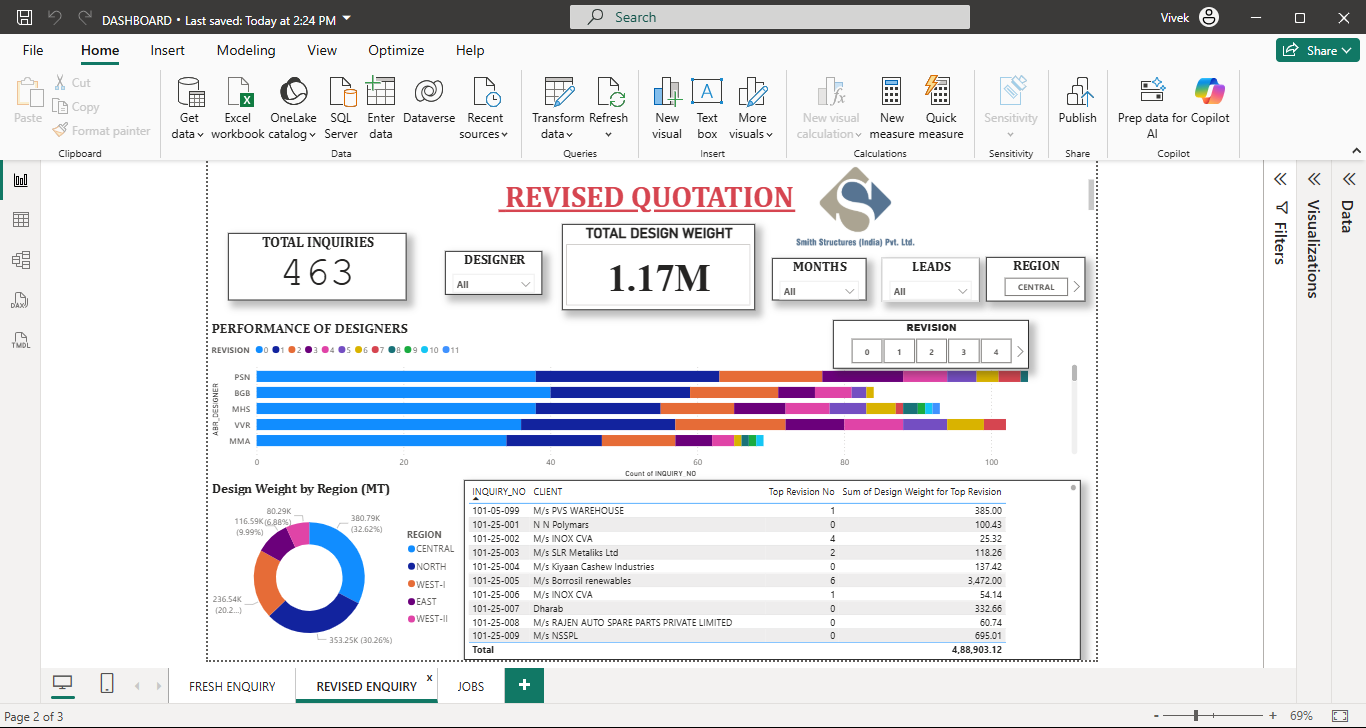

Layout of this report page (visuals, bound fields, positions):
{"tool":"powerbi","page":{"name":"REVISED ENQUIRY","canvas":[1280,720],"ordinal":1},"visuals":[{"type":"barChart","title":"PERFORMANCE OF DESIGNERS","fields":{"Category":["Enquiry Master REV- 2025-2026.ABR_DESIGNER"],"Y":["Count(Enquiry Master REV- 2025-2026.INQUIRY_NO)"],"Series":["Enquiry Master REV- 2025-2026.REVISION"]},"box":[0,229.9,1256.7,231.3],"z":0},{"type":"donutChart","title":"Design Weight by Region (MT)","fields":{"Category":["Enquiry Master REV- 2025-2026.REGION"],"Y":["Sum(Enquiry Master REV- 2025-2026.DESIGN_WEIGHT_MT)"]},"box":[0,460.8,368.6,259.2],"z":1000},{"type":"slicer","title":"MONTHS","fields":{"Values":["Enquiry Master REV- 2025-2026.RECEIVED MONTH"]},"box":[812.9,141.4,135.7,61.4],"z":2000},{"type":"slicer","title":"DESIGNER","fields":{"Values":["Enquiry Master REV- 2025-2026.ABR_DESIGNER"]},"box":[341.7,131.7,140,63.3],"z":3000},{"type":"cardVisual","title":"TOTAL DESIGN WEIGHT","fields":{"Data":["Sum(Enquiry Master REV- 2025-2026.DESIGN_WEIGHT_MT)"]},"box":[509.8,92.2,277.9,123.8],"z":4000},{"type":"textbox","box":[0,22.4,1280.6,56.7],"z":5000},{"type":"image","box":[837.3,0,192.5,132.8],"z":6000},{"type":"card","title":"TOTAL INQUIRIES ","fields":{"Values":["Count(Enquiry Master REV- 2025-2026.INQUIRY_NO)"]},"box":[28.3,105,256.7,96.7],"z":7000},{"type":"slicer","title":"LEADS","fields":{"Values":["Enquiry Master REV- 2025-2026.CHECKED_BY"]},"box":[970,141.4,140,62.9],"z":8000},{"type":"slicer","title":"REVISION","fields":{"Values":["Enquiry Master REV- 2025-2026.REVISION"]},"box":[900,229.9,282.1,70.1],"z":9000},{"type":"tableEx","fields":{"Values":["Enquiry Master REV- 2025-2026.INQUIRY_NO","Enquiry Master REV- 2025-2026.CLIENT","Enquiry Master REV- 2025-2026.Top Revision No","Enquiry Master REV- 2025-2026.Sum of Design Weight for Top Revision"]},"box":[368.6,460.8,888.5,259.2],"z":10000},{"type":"slicer","title":"REGION","fields":{"Values":["Enquiry Master REV- 2025-2026.REGION"]},"box":[1120,140,142.9,64.3],"z":11000}]}

Visuals, with their boxes on the page's 1280x720 design canvas (x1, y1, x2, y2). These are canvas units, not pixel positions in the 1366x728 screenshot, which may show the page scaled, cropped or inside an application window:
"PERFORMANCE OF DESIGNERS" barChart: (0,230,1257,461)
"Design Weight by Region (MT)" donutChart: (0,461,369,720)
"MONTHS" slicer: (813,141,949,203)
"DESIGNER" slicer: (342,132,482,195)
"TOTAL DESIGN WEIGHT" cardVisual: (510,92,788,216)
textbox: (0,22,1281,79)
image: (837,0,1030,133)
"TOTAL INQUIRIES " card: (28,105,285,202)
"LEADS" slicer: (970,141,1110,204)
"REVISION" slicer: (900,230,1182,300)
tableEx - Enquiry Master REV- 2025-2026.INQUIRY_NO x Enquiry Master REV- 2025-2026.CLIENT: (369,461,1257,720)
"REGION" slicer: (1120,140,1263,204)
